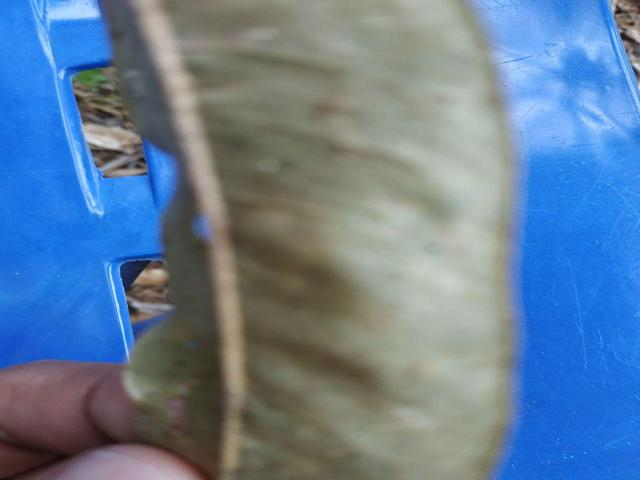blight spot: (162, 340, 204, 442), (180, 196, 214, 258)
